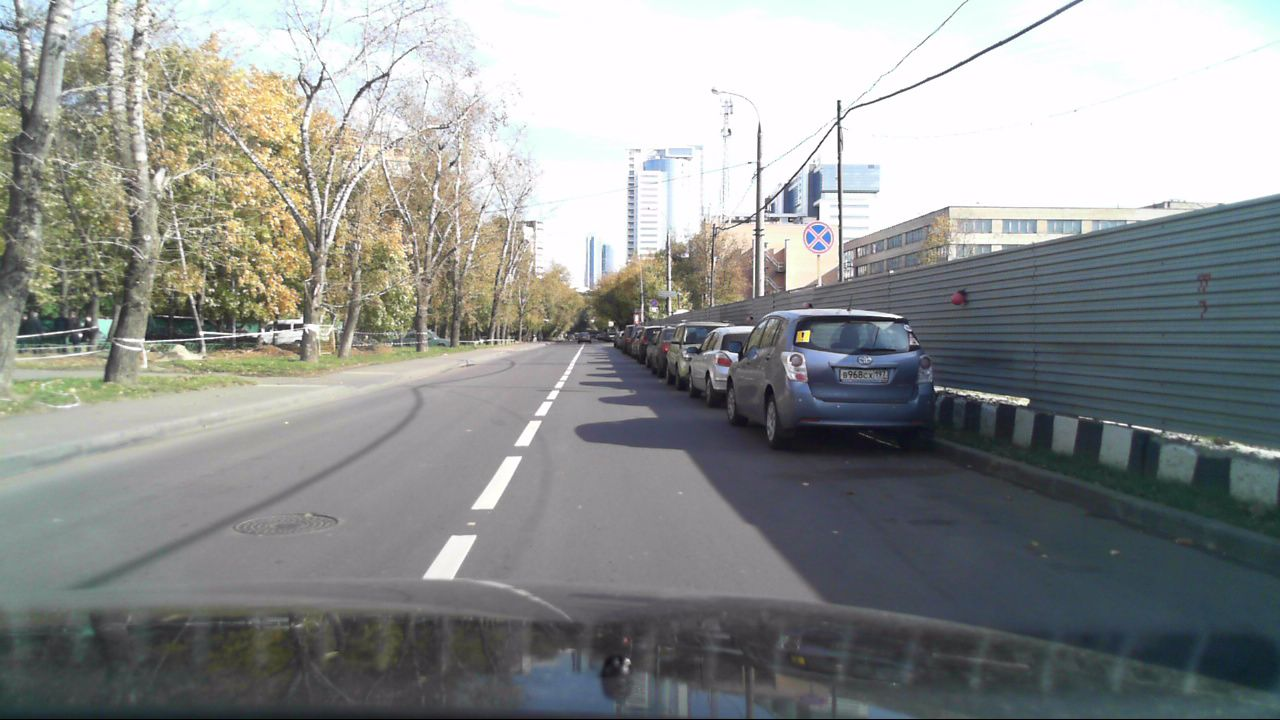No Parking: (802, 220, 834, 255)
